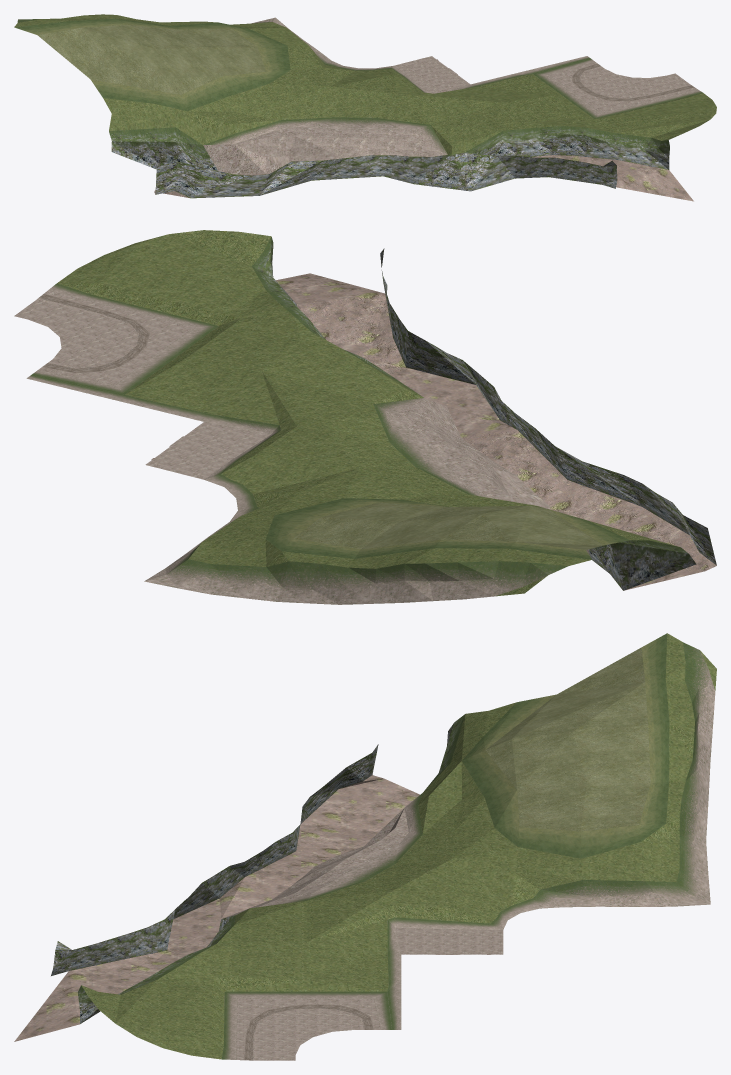
Rendered from cunteground15.obj.
The picture shows the model from 3 angles, top to bottom: view 1: azimuth 30°, elevation 25°; view 2: azimuth 150°, elevation 25°; view 3: azimuth 270°, elevation 25°; orthographic projection. The views are drawn at different scales.
Parts seen in each view (by area): view 1: cuntEground15; view 2: cuntEground15; view 3: cuntEground15.
Boxes of the visible parts, x1,y1,x2,y2 form: cuntEground15: (14,14,716,201); cuntEground15: (14,230,716,604); cuntEground15: (14,633,716,1060).
Bounding box in the file's own units: 268 × 49.4 × 237.
